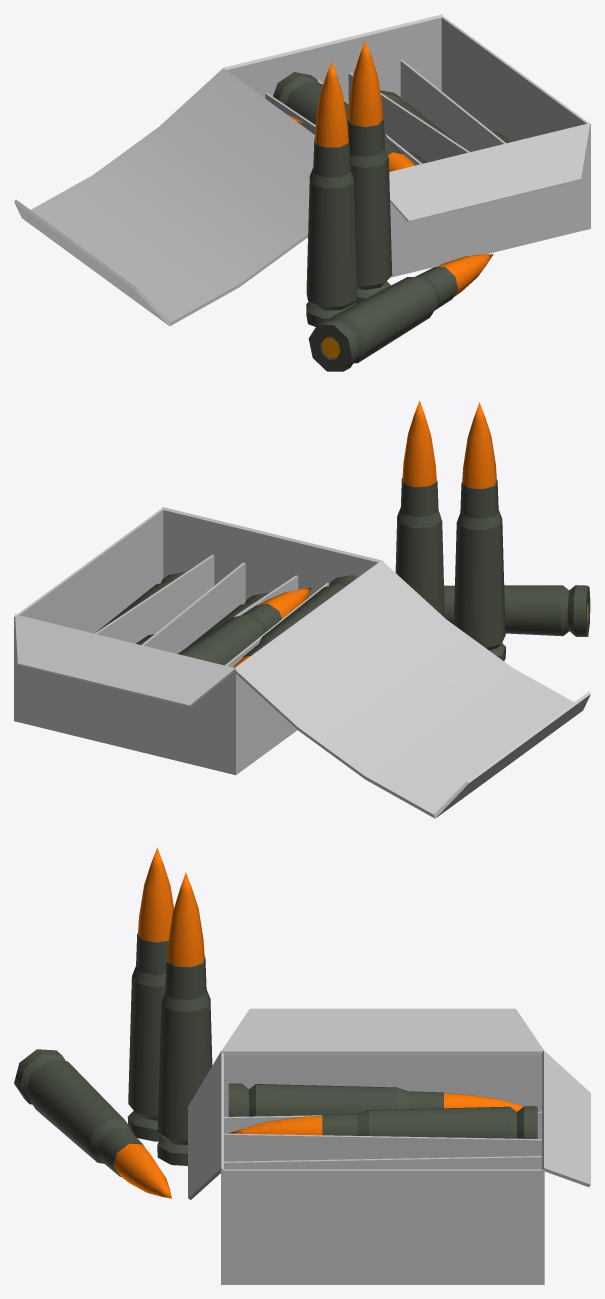
File: Rifle_Ammo.fbx
3 views of the same model, one above another, from view 1: azimuth 30°, elevation 25°; view 2: azimuth 150°, elevation 25°; view 3: azimuth 270°, elevation 25° (orthographic). The views are drawn at different scales.
Parts seen in each view (by area): view 1: Cube.001; view 2: Cube.001; view 3: Cube.001.
Part boxes in pixels (box(x1,y1,x2,y2)): Cube.001: box(14, 14, 590, 371); Cube.001: box(14, 400, 590, 818); Cube.001: box(14, 847, 590, 1284).
Bounding box in the file's own units: 1 × 0.5635 × 1.04.
